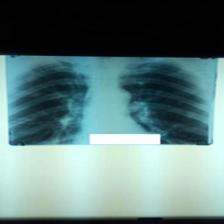tuberculosis: (7, 55, 214, 145)
